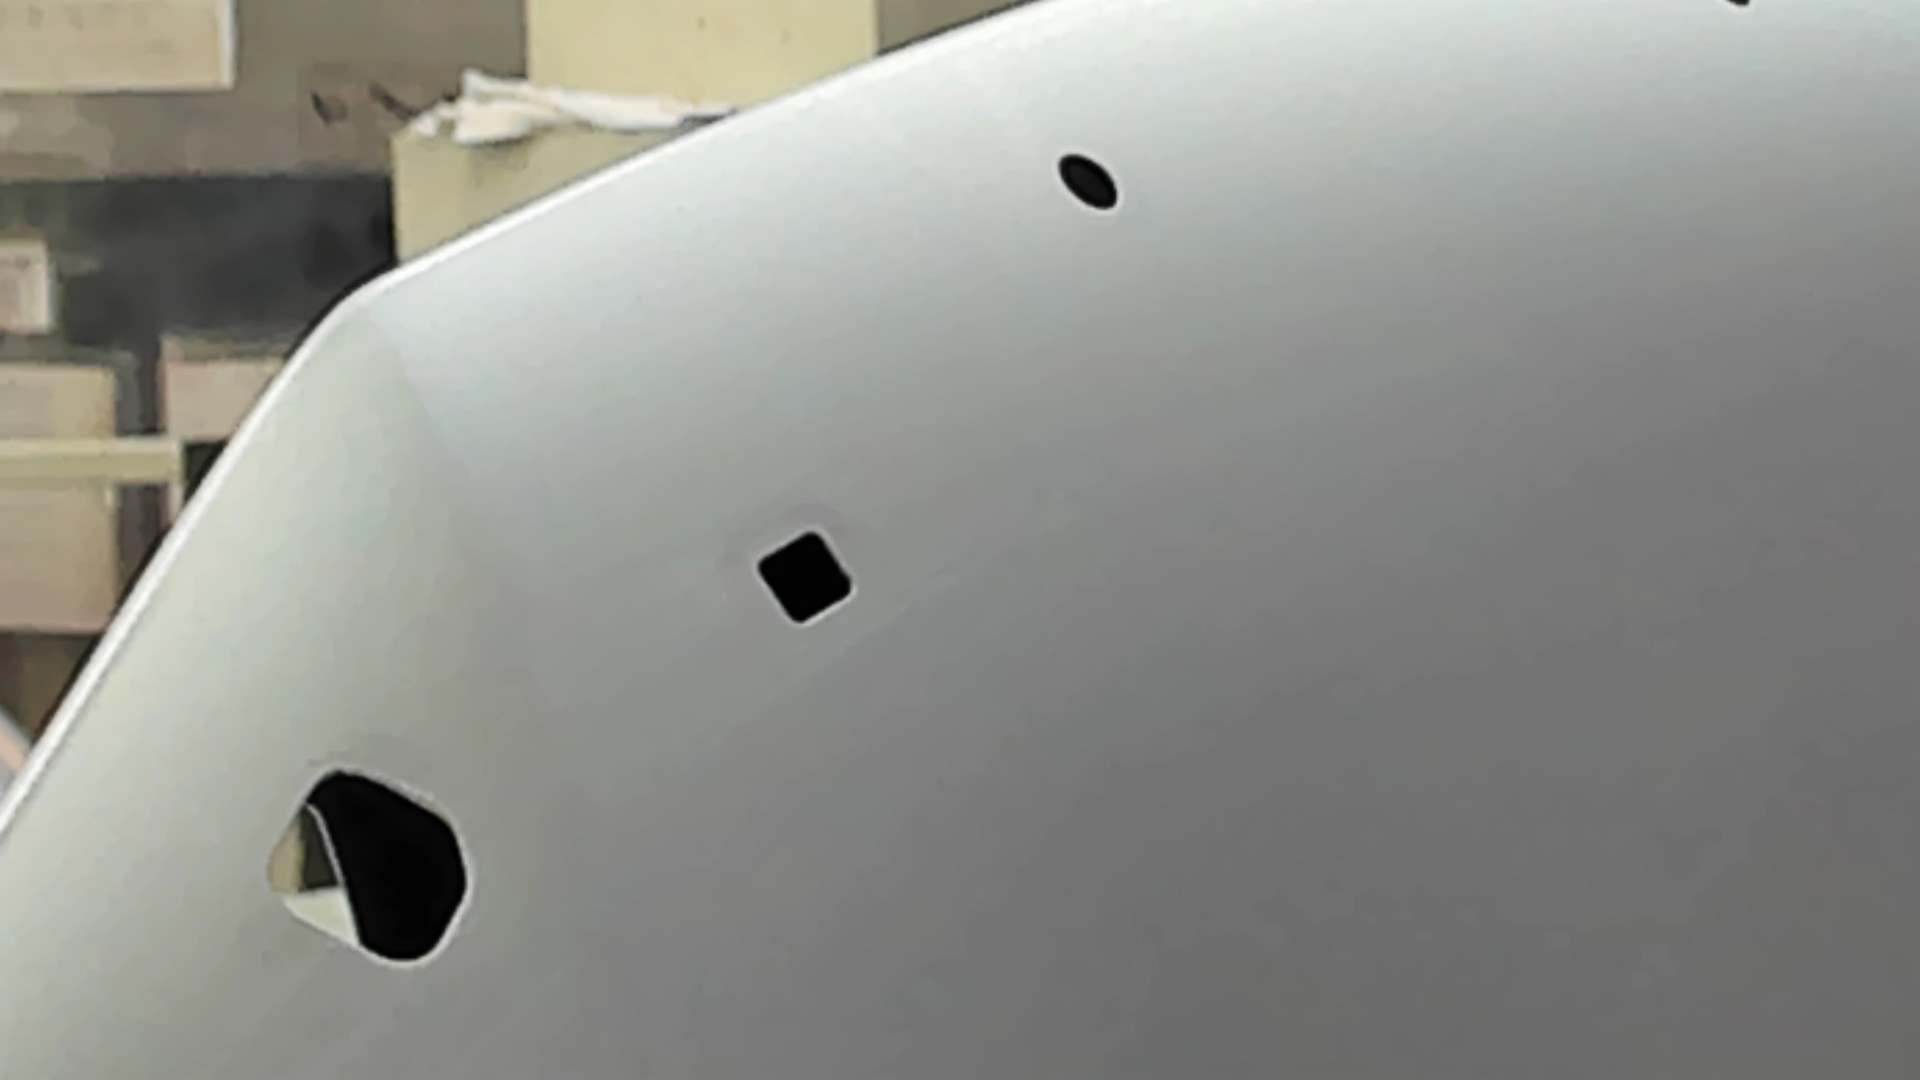chico: (1055, 149, 1124, 215)
grande: (258, 756, 475, 972)
mediano: (746, 524, 862, 632)
